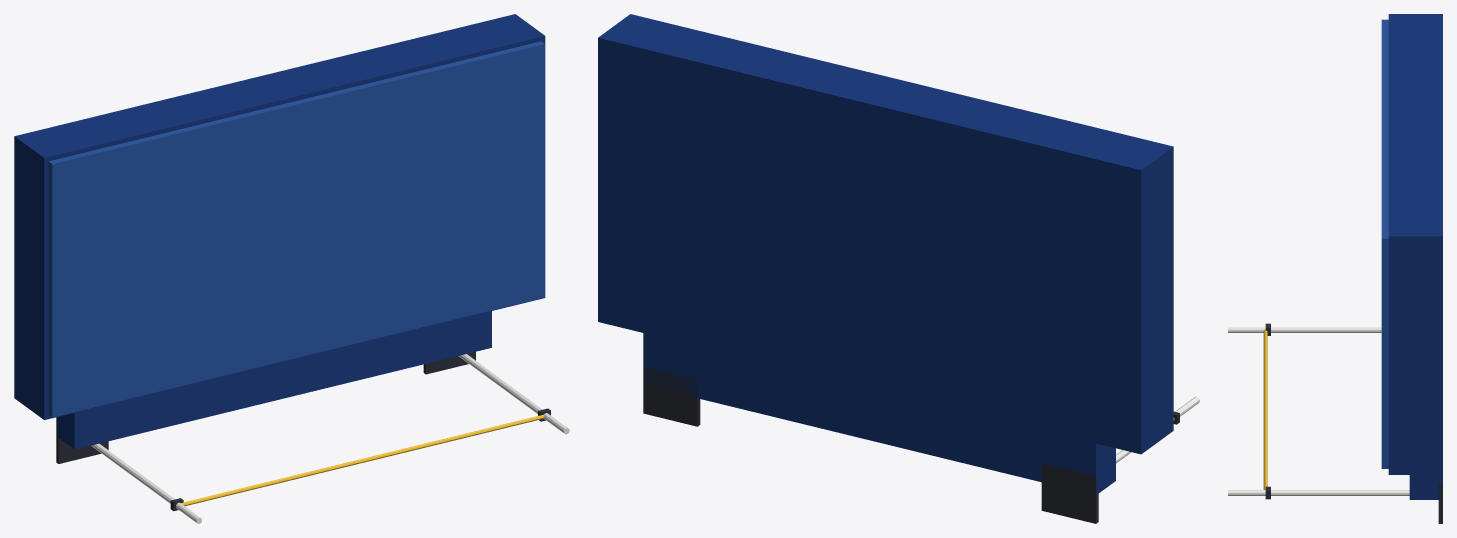
File: hauteur.glb
3 views of the same model, side by side, from view 1: azimuth 30°, elevation 25°; view 2: azimuth 150°, elevation 25°; view 3: azimuth 270°, elevation 25° (orthographic). The views are drawn at different scales.
Visible parts, largest first — view 1: housse, tapis, tapis_avant, barre, poteau, poteau.001, pied; view 2: tapis, tapis_avant, pied, pied.001; view 3: tapis, housse, poteau.001, poteau, tapis_avant, barre.
Boxes of the visible parts, <box> form: housse: <box>48,41,544,417</box>; tapis: <box>14,14,545,419</box>; tapis_avant: <box>56,311,491,449</box>; barre: <box>181,414,544,506</box>; poteau: <box>91,443,201,523</box>; poteau.001: <box>458,354,569,434</box>; pied: <box>56,419,108,463</box>; tapis: <box>598,14,1173,454</box>; tapis_avant: <box>643,333,1115,494</box>; pied: <box>1041,463,1098,523</box>; pied.001: <box>643,366,700,426</box>; tapis: <box>1388,14,1442,474</box>; housse: <box>1381,19,1388,468</box>; poteau.001: <box>1228,490,1409,495</box>; poteau: <box>1228,327,1381,332</box>; tapis_avant: <box>1409,475,1442,499</box>; barre: <box>1263,329,1267,489</box>.
Size of the model in its own units: 6 by 3.85 by 2.45.
